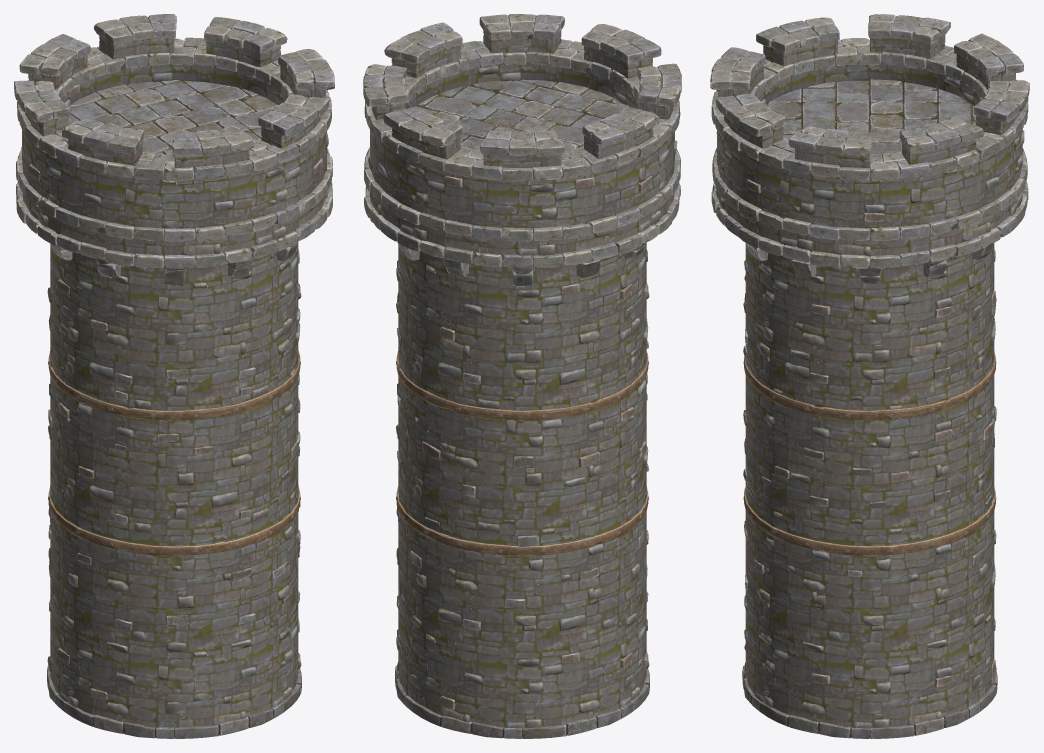
3 renders of one model, left to right at view 1: azimuth 30°, elevation 25°; view 2: azimuth 150°, elevation 25°; view 3: azimuth 270°, elevation 25°, orthographic.
Parts seen in each view (by area): view 1: SM_Fortress_Tower_4x12_01_v2_LOD0; view 2: SM_Fortress_Tower_4x12_01_v2_LOD0; view 3: SM_Fortress_Tower_4x12_01_v2_LOD0.
Part boxes in pixels (box(x1,y1,x2,y2)): SM_Fortress_Tower_4x12_01_v2_LOD0: box(14, 14, 334, 738); SM_Fortress_Tower_4x12_01_v2_LOD0: box(363, 14, 681, 738); SM_Fortress_Tower_4x12_01_v2_LOD0: box(710, 14, 1029, 738).
Bounding box in the file's own units: 9.38 × 19.66 × 9.4.
Materials: 5 (5 with a texture image).
